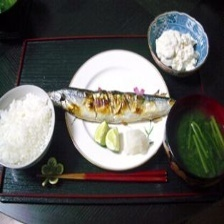rice: (0, 89, 55, 170)
